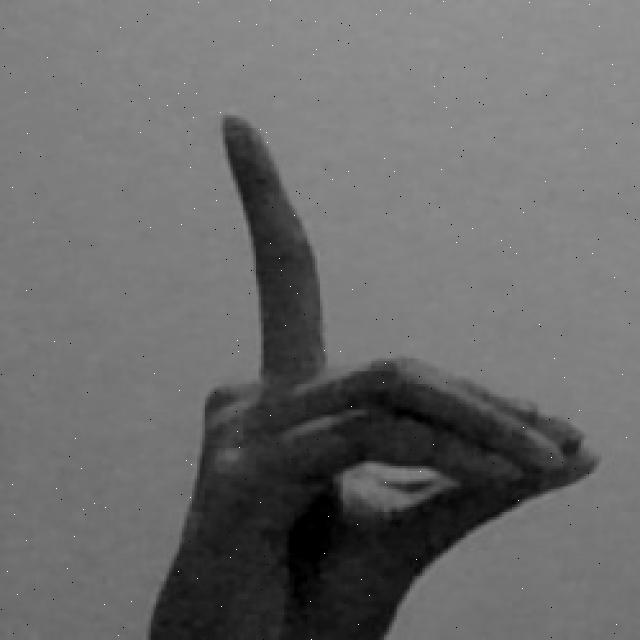D: (144, 112, 602, 640)
